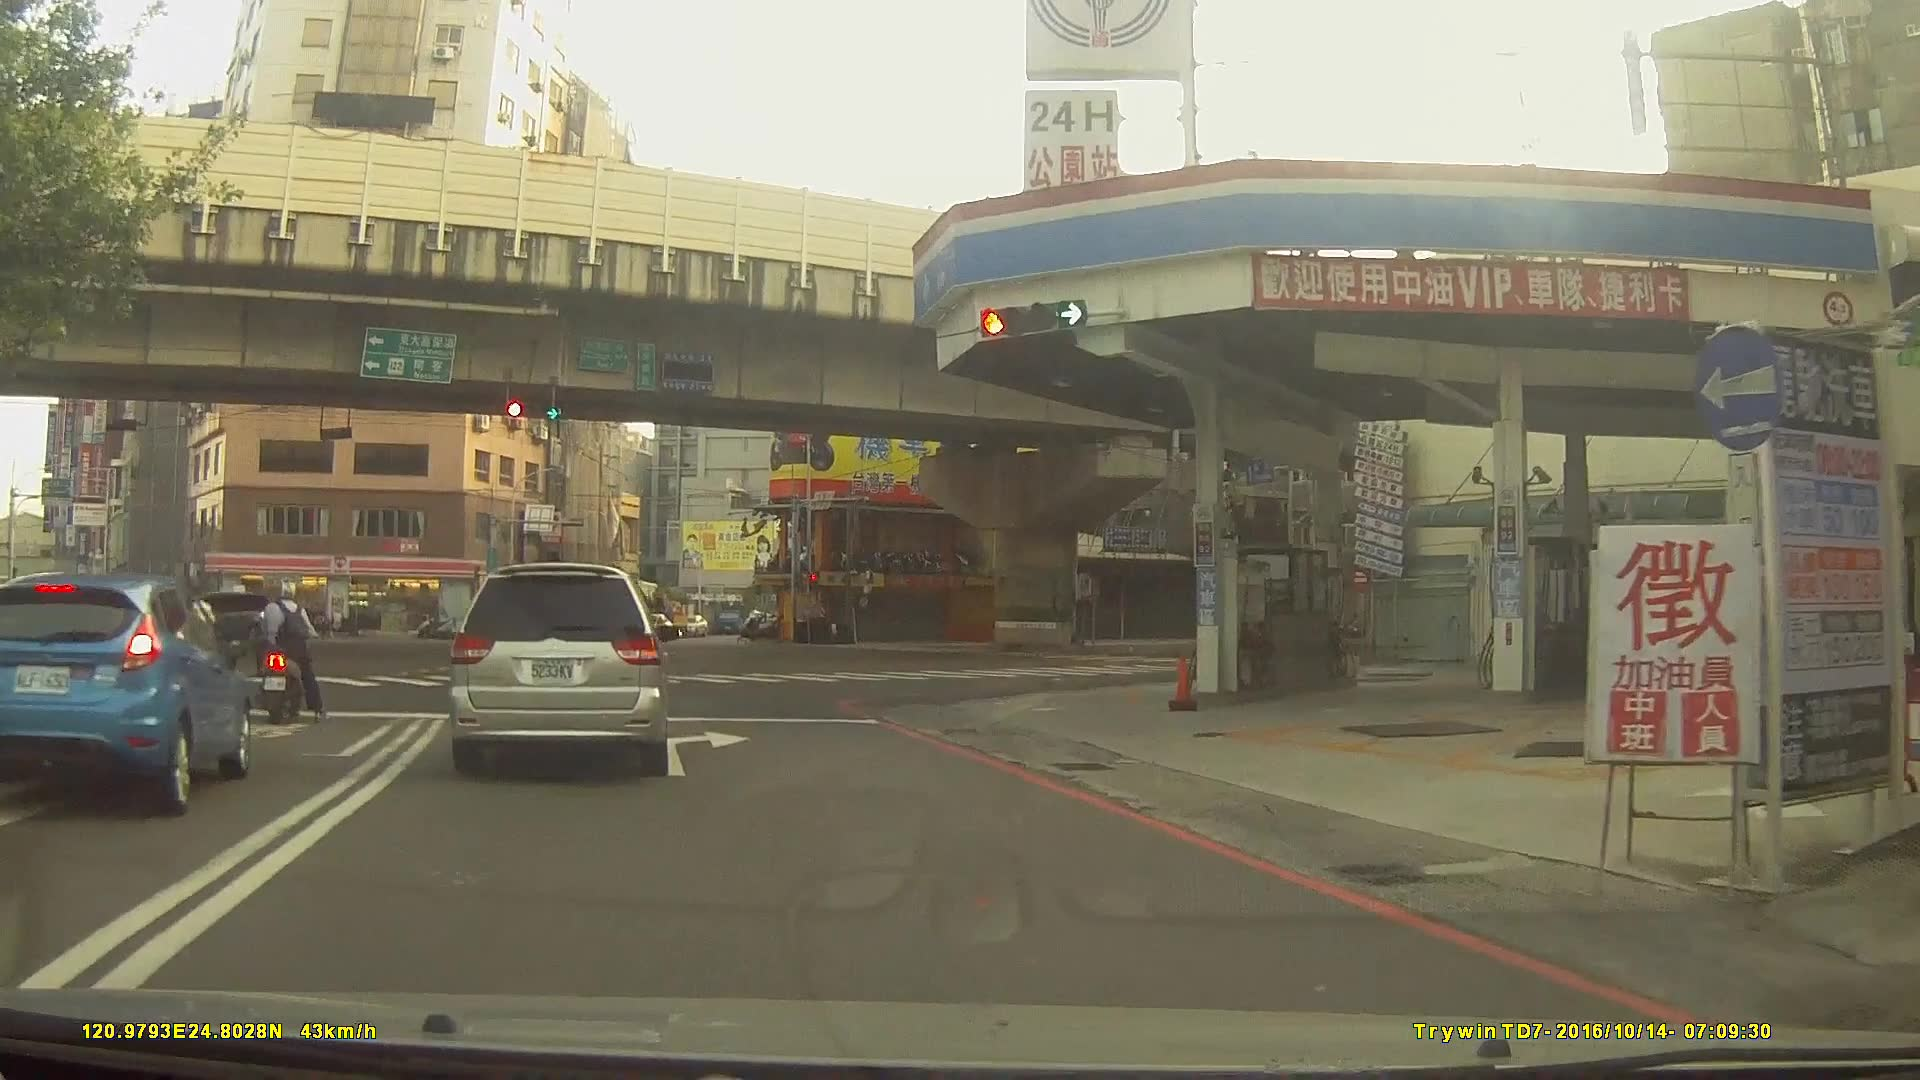rider: (257, 577, 323, 730), (160, 578, 222, 719)
vehicle: (0, 568, 249, 816), (445, 560, 671, 776), (128, 587, 275, 642), (543, 606, 605, 633)
